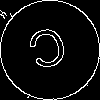C: (25, 25, 73, 80)
